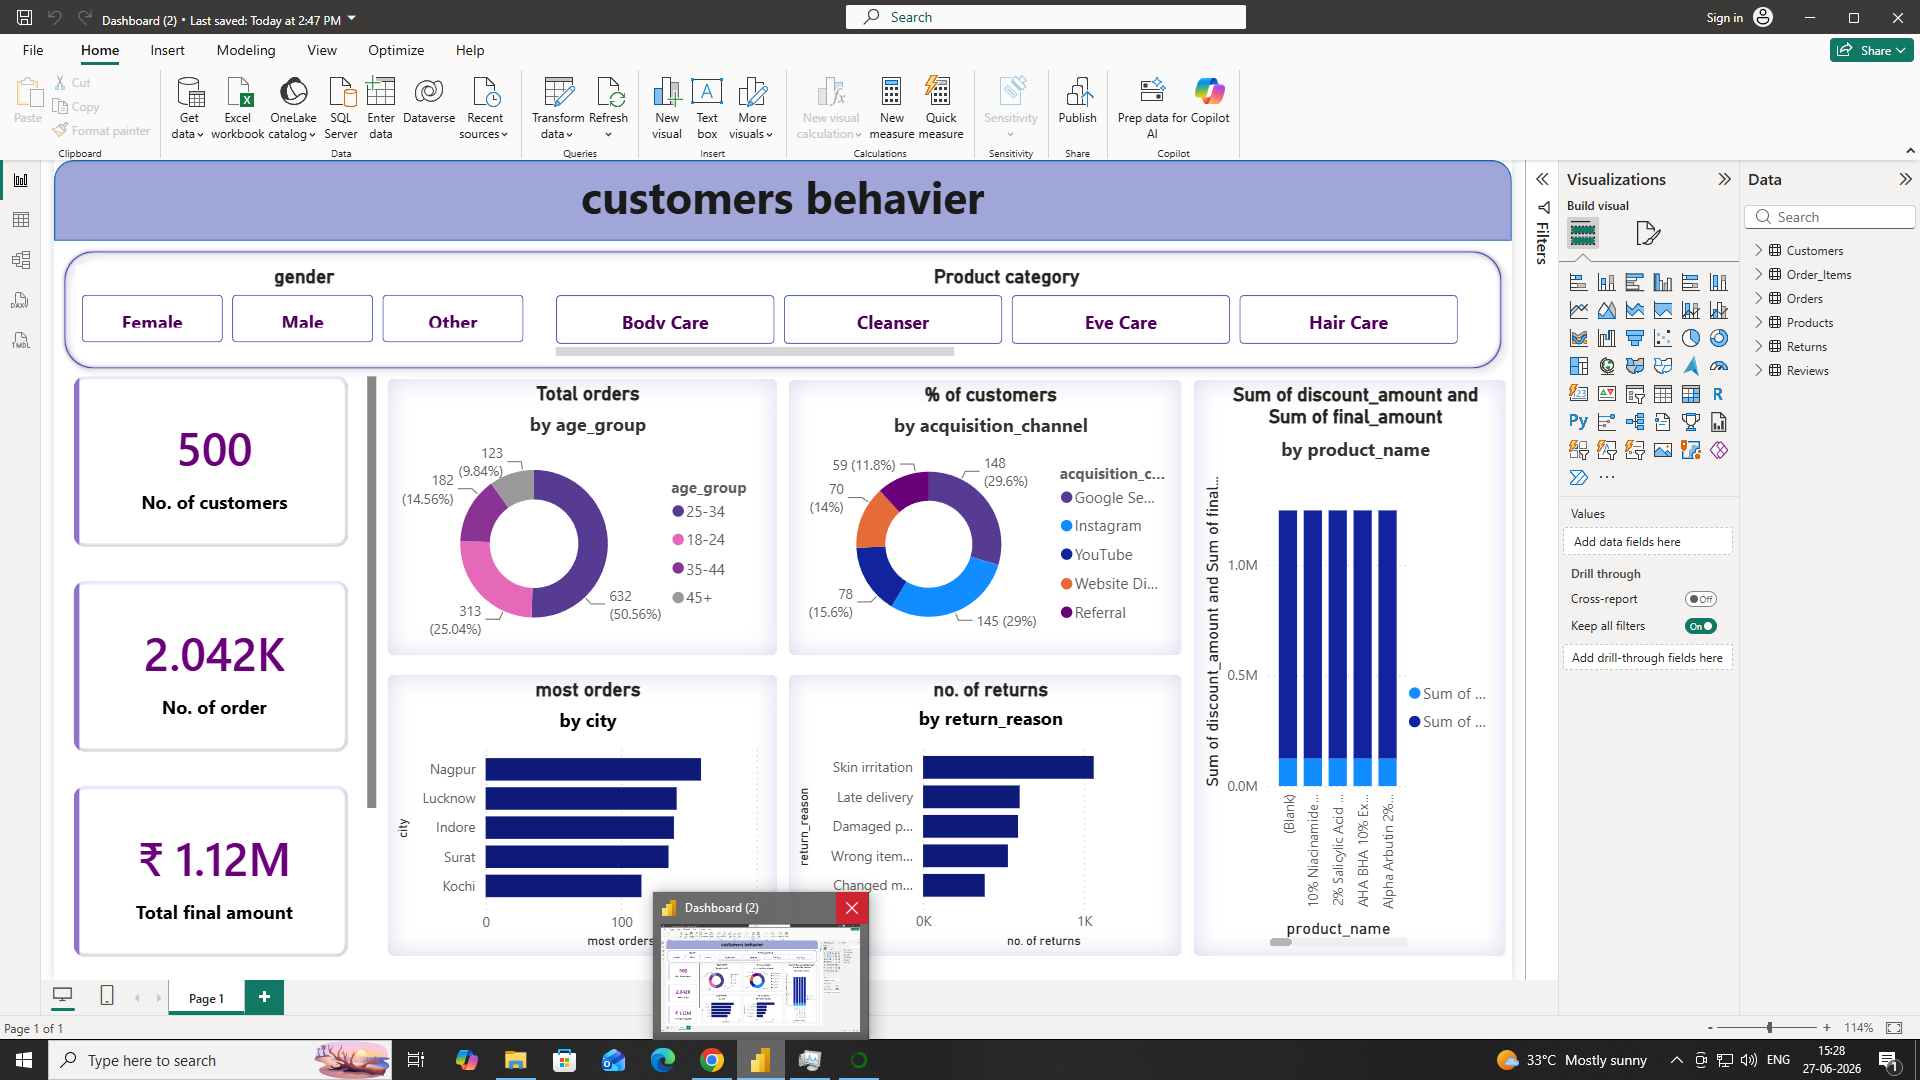

The page's visual inventory and layout, read from the dashboard file:
{"tool":"powerbi","page":{"name":"Page 1","canvas":[1280,720],"ordinal":0},"visuals":[{"type":"cardVisual","fields":{"Data":["Customers.no. of customers","CountNonNull(Order_Items.order_id)","Orders.total final amount","Avg(Reviews.rating)"]},"box":[0,173.3,288.1,546.4],"z":0},{"type":"shape","box":[0,0,1280,71],"z":1000},{"type":"donutChart","fields":{"Category":["Customers.age_group"],"Y":["CountNonNull(Orders.order_id)"]},"box":[288,186.7,352,252.8],"z":2000},{"type":"clusteredBarChart","fields":{"Category":["Customers.city"],"Y":["CountNonNull(Order_Items.order_id)"]},"box":[288.1,446.5,351.9,257.3],"z":3000},{"type":"donutChart","fields":{"Y":["CountNonNull(Customers.customer_id)"],"Category":["Customers.acquisition_channel"]},"box":[640,188.2,355.1,252],"z":4000},{"type":"barChart","fields":{"Y":["Sum(Returns.return_id)"],"Category":["Returns.return_reason"]},"box":[640,447,355,257],"z":5000},{"type":"columnChart","fields":{"Y":["Sum(Orders.discount_amount)","Sum(Orders.final_amount)"],"Category":["Products.product_name"]},"box":[995.6,187.9,284.4,515.8],"z":6000},{"type":"shape","box":[0,71.1,1280,121],"z":7000},{"type":"advancedSlicerVisual","fields":{"Values":["Customers.gender"]},"box":[19.1,92.5,400.8,73.4],"z":8000},{"type":"advancedSlicerVisual","fields":{"Values":["Products.category"]},"box":[435.2,92.3,802.4,87],"z":9000}]}

Visuals, with their boxes on the page's 1280x720 design canvas (x1, y1, x2, y2). These are canvas units, not pixel positions in the 1920x1080 screenshot, which may show the page scaled, cropped or inside an application window:
cardVisual - Customers.no. of customers x CountNonNull(Order_Items.order_id): [x1=0, y1=173, x2=288, y2=720]
shape: [x1=0, y1=0, x2=1280, y2=71]
donutChart - Customers.age_group x CountNonNull(Orders.order_id): [x1=288, y1=187, x2=640, y2=440]
clusteredBarChart - Customers.city x CountNonNull(Order_Items.order_id): [x1=288, y1=446, x2=640, y2=704]
donutChart - CountNonNull(Customers.customer_id) x Customers.acquisition_channel: [x1=640, y1=188, x2=995, y2=440]
barChart - Sum(Returns.return_id) x Returns.return_reason: [x1=640, y1=447, x2=995, y2=704]
columnChart - Sum(Orders.discount_amount) x Sum(Orders.final_amount): [x1=996, y1=188, x2=1280, y2=704]
shape: [x1=0, y1=71, x2=1280, y2=192]
advancedSlicerVisual - Customers.gender: [x1=19, y1=92, x2=420, y2=166]
advancedSlicerVisual - Products.category: [x1=435, y1=92, x2=1238, y2=179]
